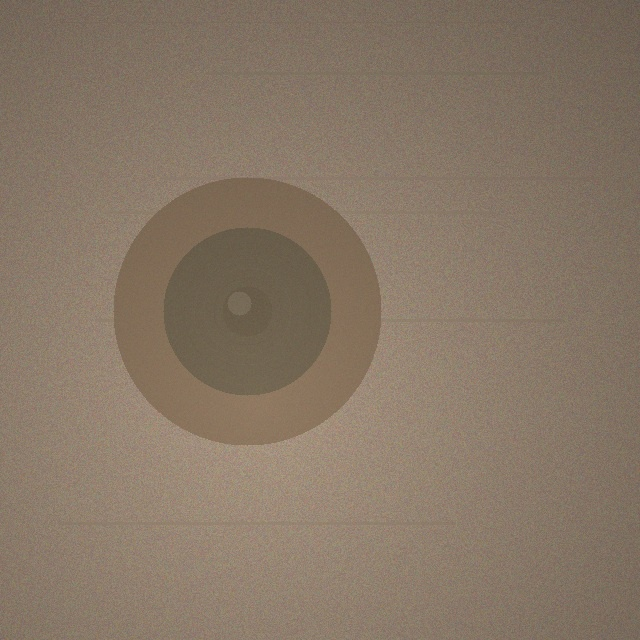good: (113, 177, 381, 445)
